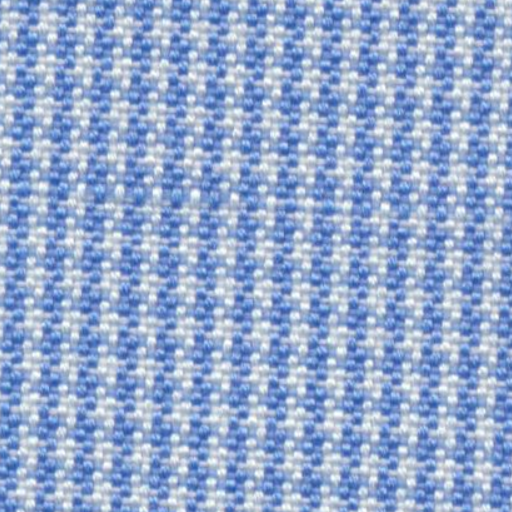TuoSha: (9, 166, 488, 254)
